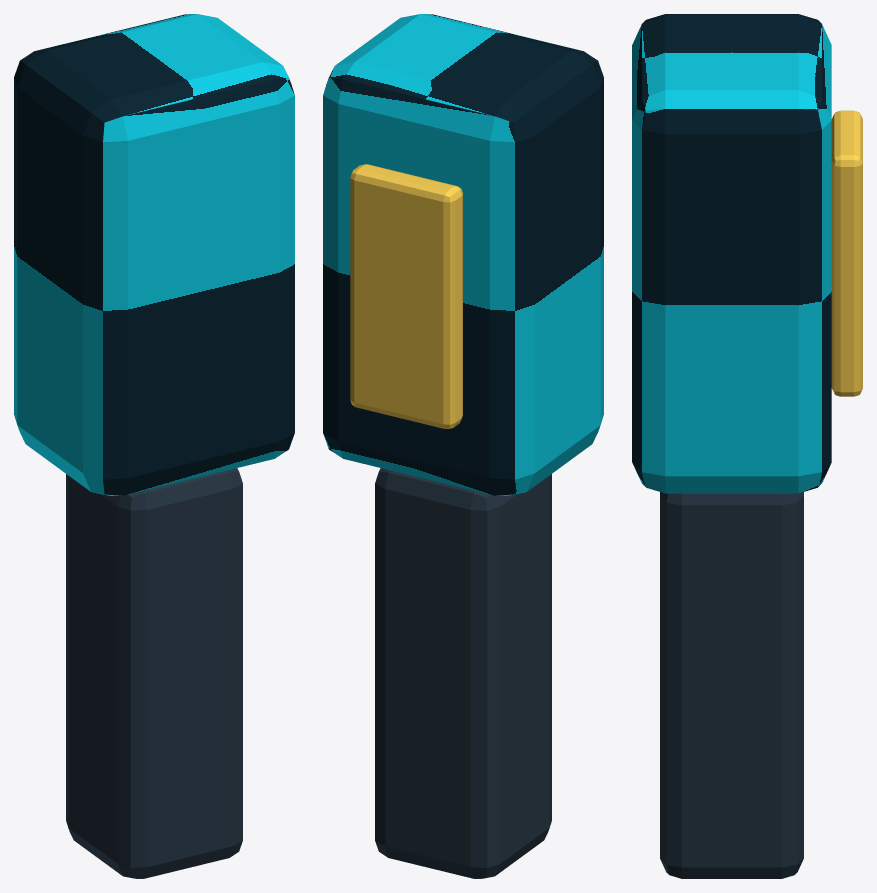
3 views of the same model, side by side, from view 1: azimuth 30°, elevation 25°; view 2: azimuth 150°, elevation 25°; view 3: azimuth 270°, elevation 25° (orthographic).
Visible parts, largest first — view 1: Sensor, Grip; view 2: Sensor, Grip, Front marker +Y; view 3: Sensor, Grip, Front marker +Y.
Boxes of the visible parts, x1=… form: Sensor: x1=14, y1=14, x2=294, y2=495; Grip: x1=66, y1=468, x2=242, y2=878; Sensor: x1=323, y1=14, x2=603, y2=495; Grip: x1=375, y1=468, x2=551, y2=878; Front marker +Y: x1=350, y1=164, x2=462, y2=428; Sensor: x1=632, y1=14, x2=831, y2=493; Grip: x1=660, y1=492, x2=803, y2=878; Front marker +Y: x1=831, y1=110, x2=862, y2=396.
Bounding box in the file's own units: 0.11 × 0.4 × 0.104.
3 materials, 1 textured.
